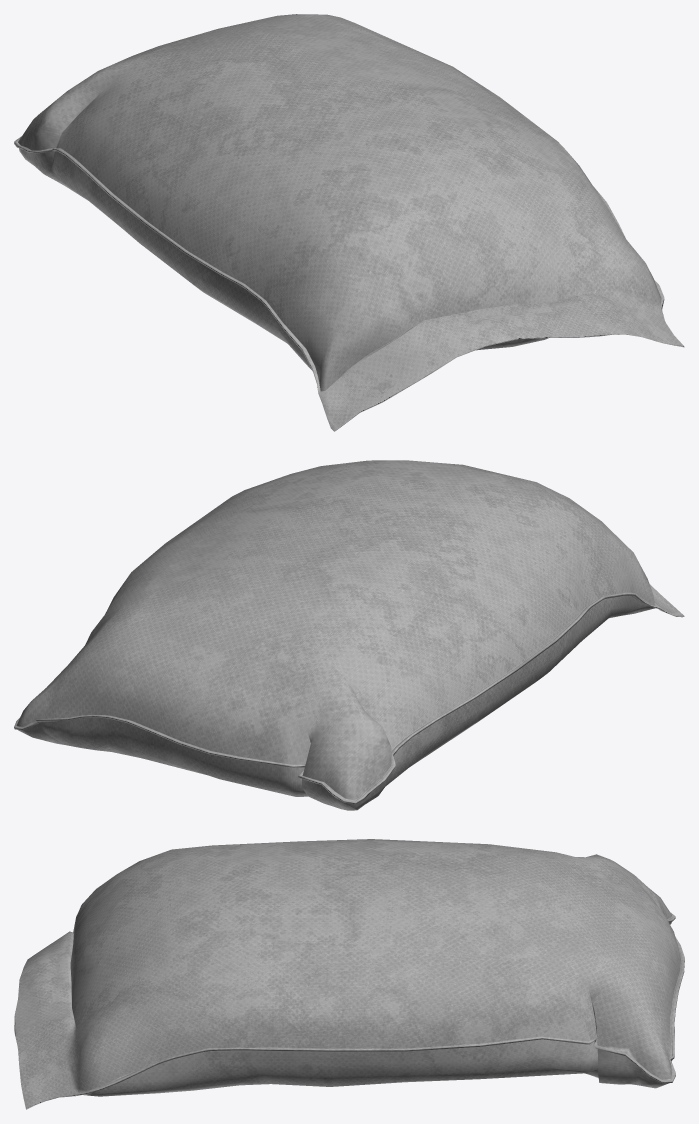
File: SM_Sack-Stack-Single-A.fbx
3 views of the same model, one above another, from view 1: azimuth 30°, elevation 25°; view 2: azimuth 150°, elevation 25°; view 3: azimuth 270°, elevation 25° (orthographic). The views are drawn at different scales.
Parts seen in each view (by area): view 1: SM_Sack-Stack-Single-A_LOD0; view 2: SM_Sack-Stack-Single-A_LOD0; view 3: SM_Sack-Stack-Single-A_LOD0.
Boxes of the visible parts, x1=… form: SM_Sack-Stack-Single-A_LOD0: x1=14, y1=14, x2=684, y2=431; SM_Sack-Stack-Single-A_LOD0: x1=14, y1=460, x2=684, y2=810; SM_Sack-Stack-Single-A_LOD0: x1=14, y1=839, x2=684, y2=1109.
Bounding box in the file's own units: 56.3 × 90.86 × 25.28.
1 material, 1 textured.
